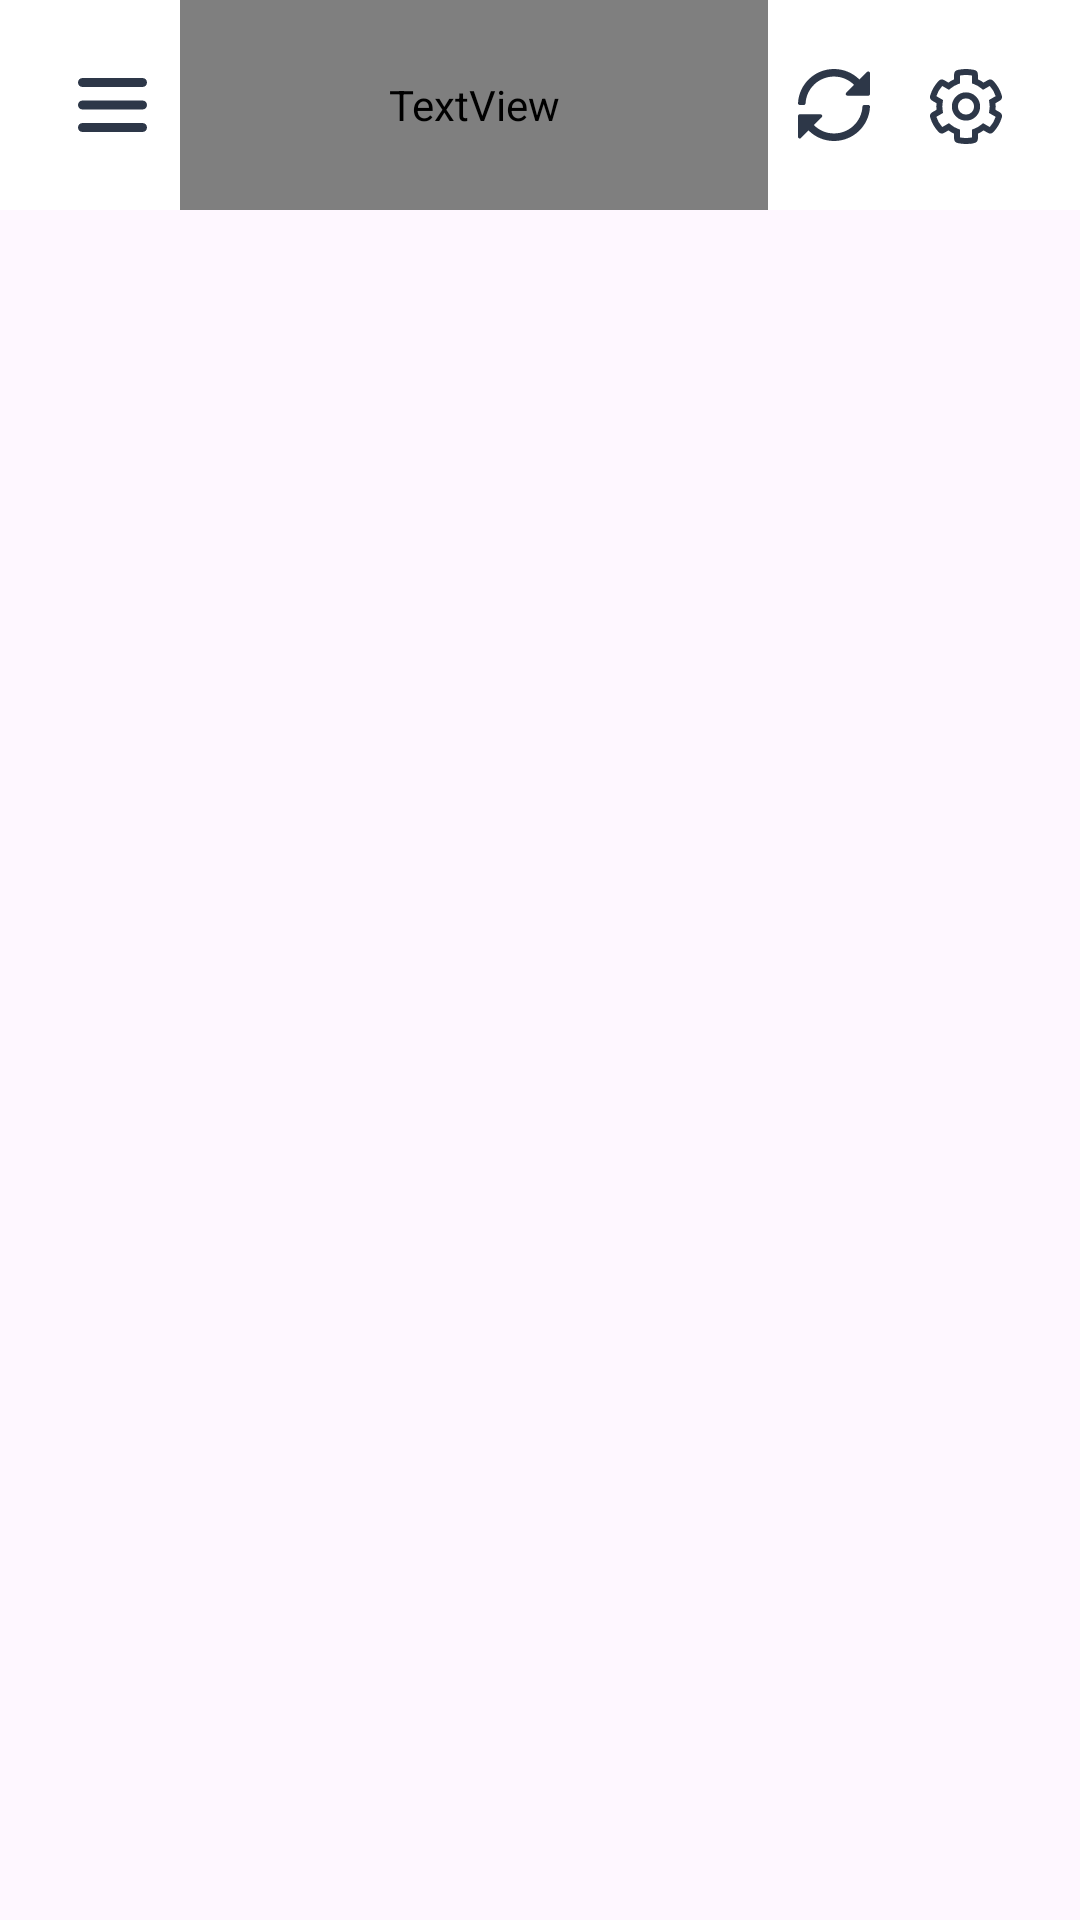

Icon bounding boxes for this 1080w x 1920h phone screenshot, format (x1, y1, x2, y2):
navigation drawer bars: (78, 78, 147, 132)
refresh: (798, 69, 870, 141)
settings: (930, 69, 1002, 144)
